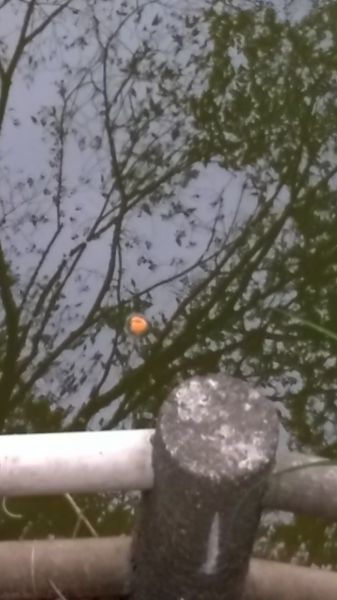eggs: (124, 311, 154, 338)
